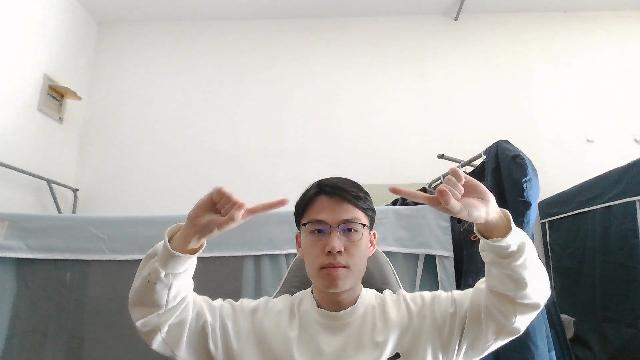one: (385, 160, 504, 227), (177, 185, 294, 248)
